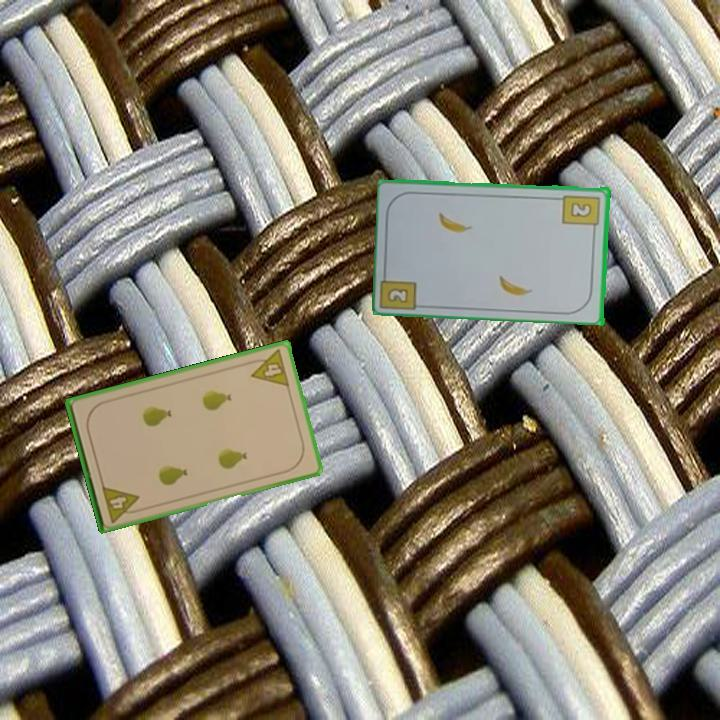2b: (560, 191, 603, 234), (384, 284, 412, 306)
4p: (244, 346, 292, 390), (98, 482, 144, 525)
